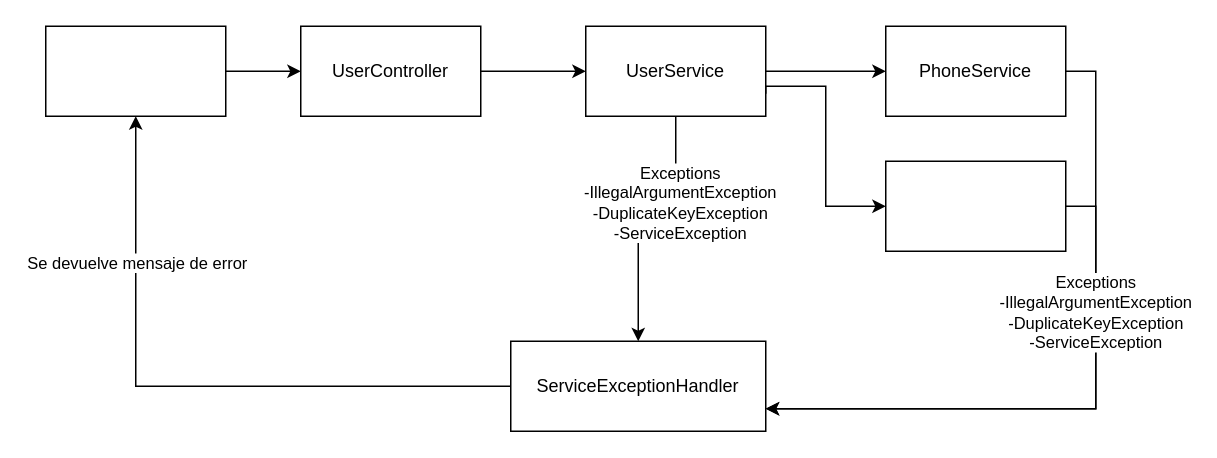
This 1217x458 diagram has some shape labels left out. Here are the shapes that lost their labels. From the top down, the centre of each, then its label:
At (x=135, y=70): "Consumer".
At (x=975, y=205): "TokenService".
